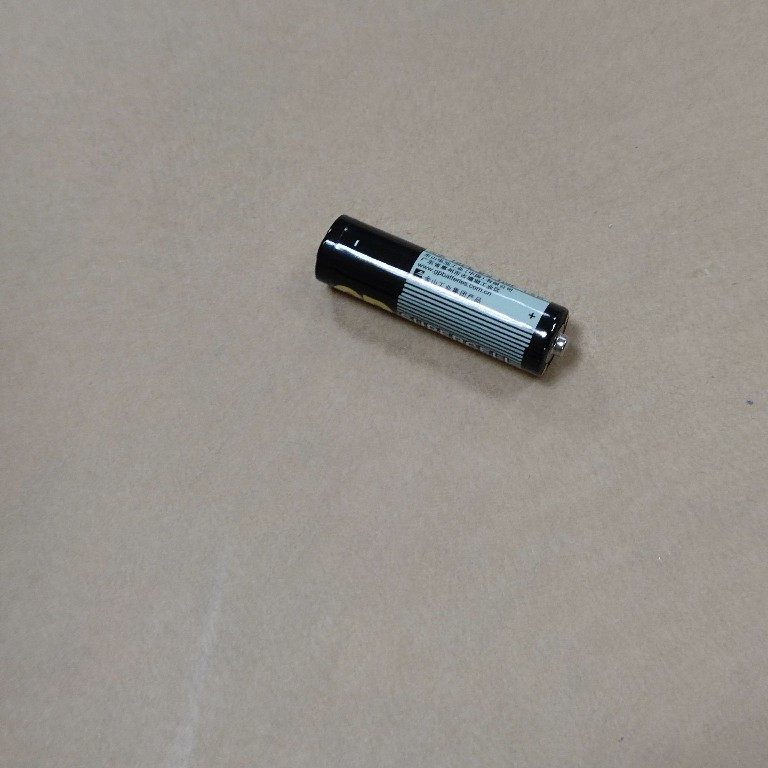charge: (312, 210, 574, 383)
